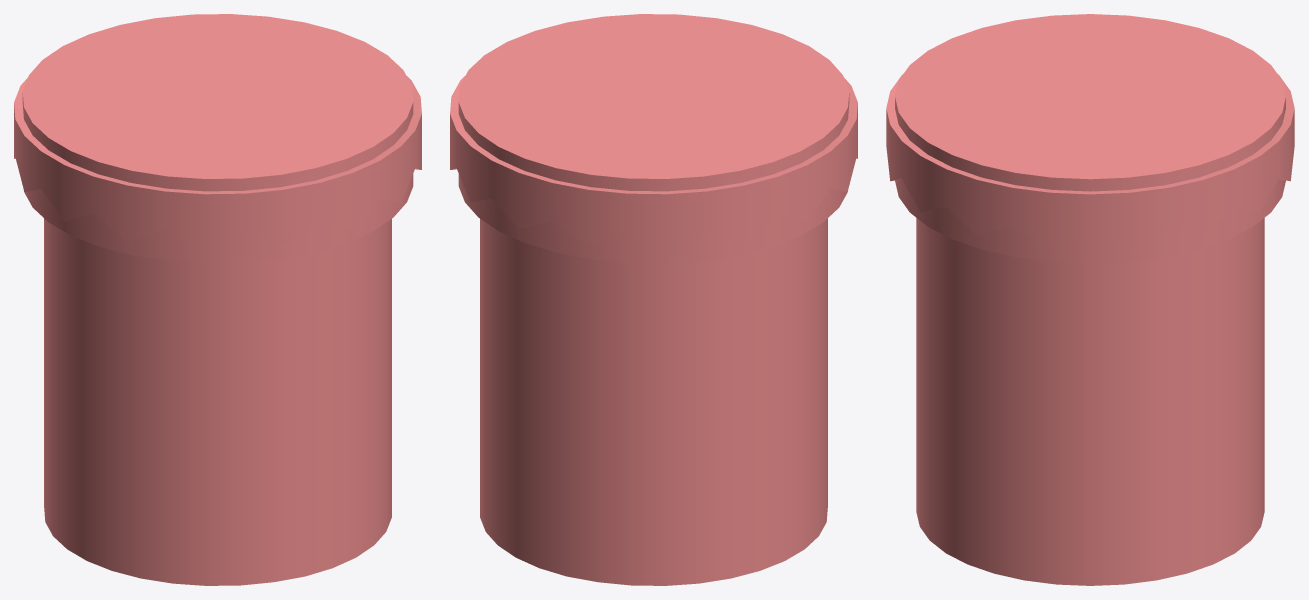
File: B win phase.fbx
3 views of the same model, side by side, from view 1: azimuth 30°, elevation 25°; view 2: azimuth 150°, elevation 25°; view 3: azimuth 270°, elevation 25° (orthographic).
Parts seen in each view (by area): view 1: Circle.001; view 2: Circle.001; view 3: Circle.001.
Part boxes in pixels (box(x1,y1,x2,y2)): Circle.001: box(14, 14, 421, 585); Circle.001: box(450, 14, 857, 585); Circle.001: box(886, 14, 1294, 585).
Bounding box in the file's own units: 453 × 509 × 453.
